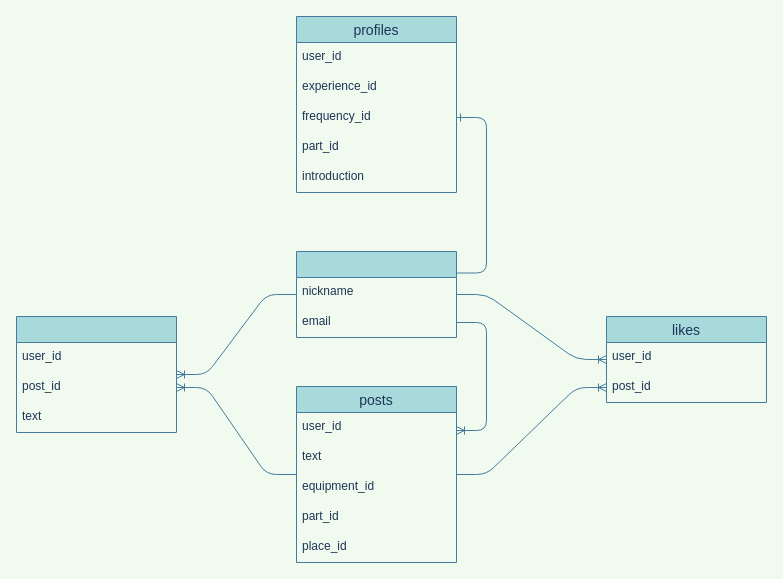
This 783x579 diagram has some shape labels left out. Each missing label, with the box of its shape:
comments: (16, 316, 176, 432)
users: (296, 250, 456, 338)
